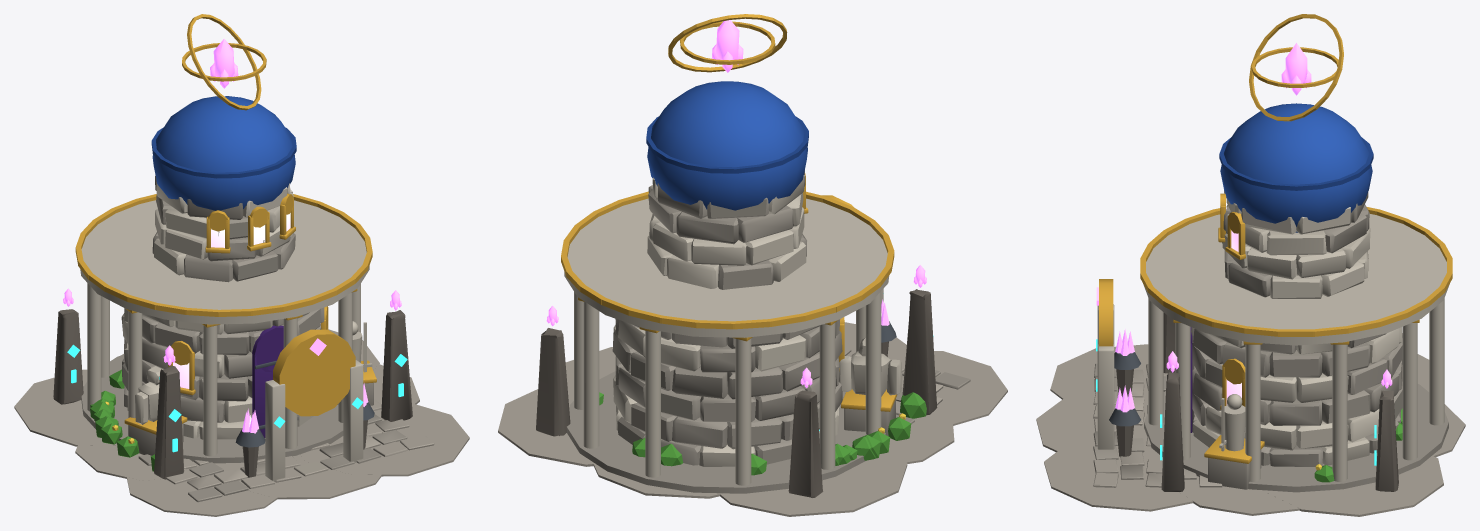
Rendered from budynek_fuzji_poz19.glb.
3 renders of one model, left to right at view 1: azimuth 30°, elevation 25°; view 2: azimuth 150°, elevation 25°; view 3: azimuth 270°, elevation 25°, orthographic. The views are drawn at different scales.
Visible parts, largest first — view 1: budynek_fuzji_poz19; view 2: budynek_fuzji_poz19; view 3: budynek_fuzji_poz19.
Part boxes in pixels (box(x1,y1,x2,y2)): budynek_fuzji_poz19: box(14, 14, 469, 516); budynek_fuzji_poz19: box(498, 14, 1007, 516); budynek_fuzji_poz19: box(1036, 14, 1465, 516).
Size of the model in its own units: 8.76 by 9.49 by 9.01.
